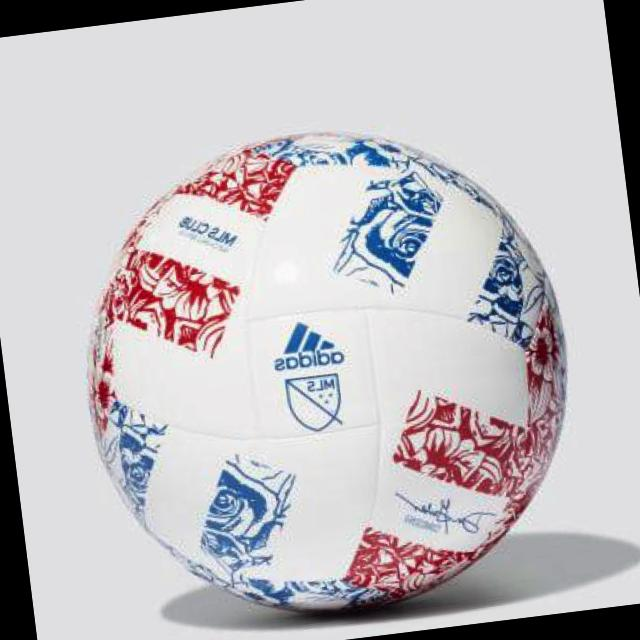ball: (61, 99, 602, 640)
